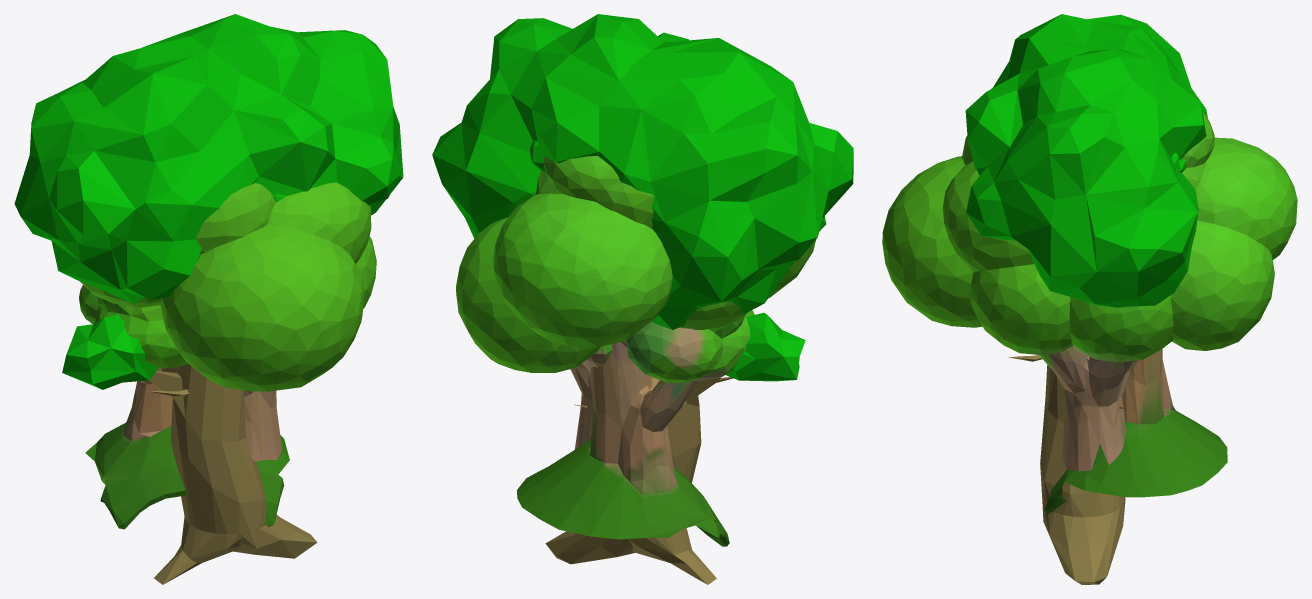
Rendered from trees.fbx.
The picture shows the model from 3 angles, left to right: view 1: azimuth 30°, elevation 25°; view 2: azimuth 150°, elevation 25°; view 3: azimuth 270°, elevation 25°; orthographic projection. The views are drawn at different scales.
Visible parts, largest first — view 1: tree1, tree5, tree4; view 2: tree1, tree5, tree4; view 3: tree1, tree5, tree4.
Boxes of the visible parts, x1,y1,x2,y2 form: tree1: [14, 14, 403, 584]; tree5: [79, 182, 376, 462]; tree4: [79, 183, 289, 529]; tree1: [432, 14, 853, 584]; tree5: [456, 193, 815, 449]; tree4: [517, 156, 754, 546]; tree1: [965, 14, 1207, 584]; tree5: [882, 137, 1297, 471]; tree4: [962, 112, 1227, 513].
Size of the model in its own units: 170 by 240 by 177.
Materials: 3 (1 with a texture image).
